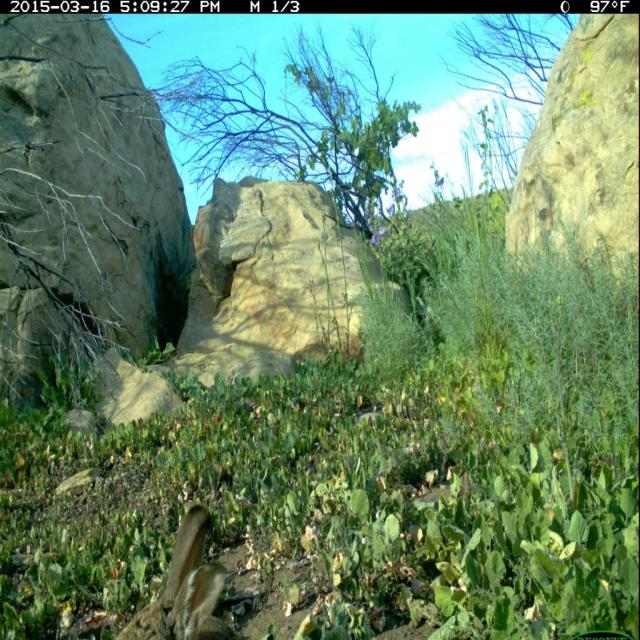rabbit: (110, 494, 252, 640)
